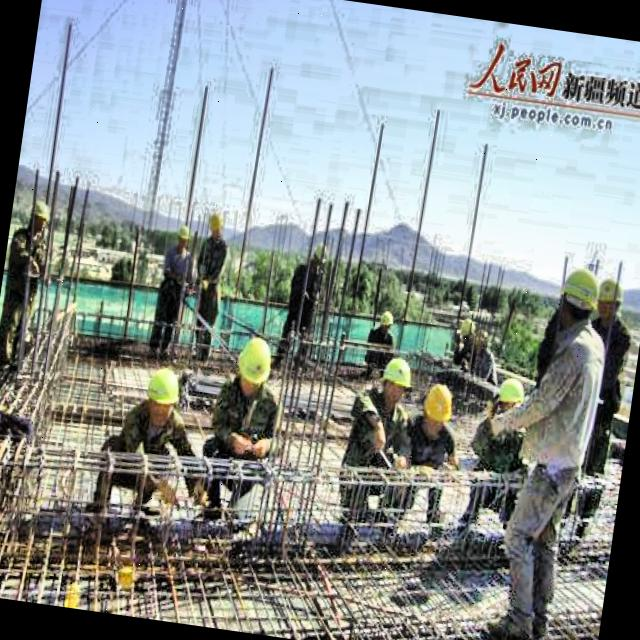helmet: (556, 264, 602, 332), (139, 362, 186, 427), (230, 330, 276, 394), (374, 355, 418, 416), (588, 272, 631, 328), (418, 378, 458, 438), (492, 374, 533, 426), (22, 197, 52, 240), (202, 207, 230, 246), (168, 222, 194, 255), (454, 311, 478, 346), (309, 239, 332, 272), (376, 304, 399, 336)
